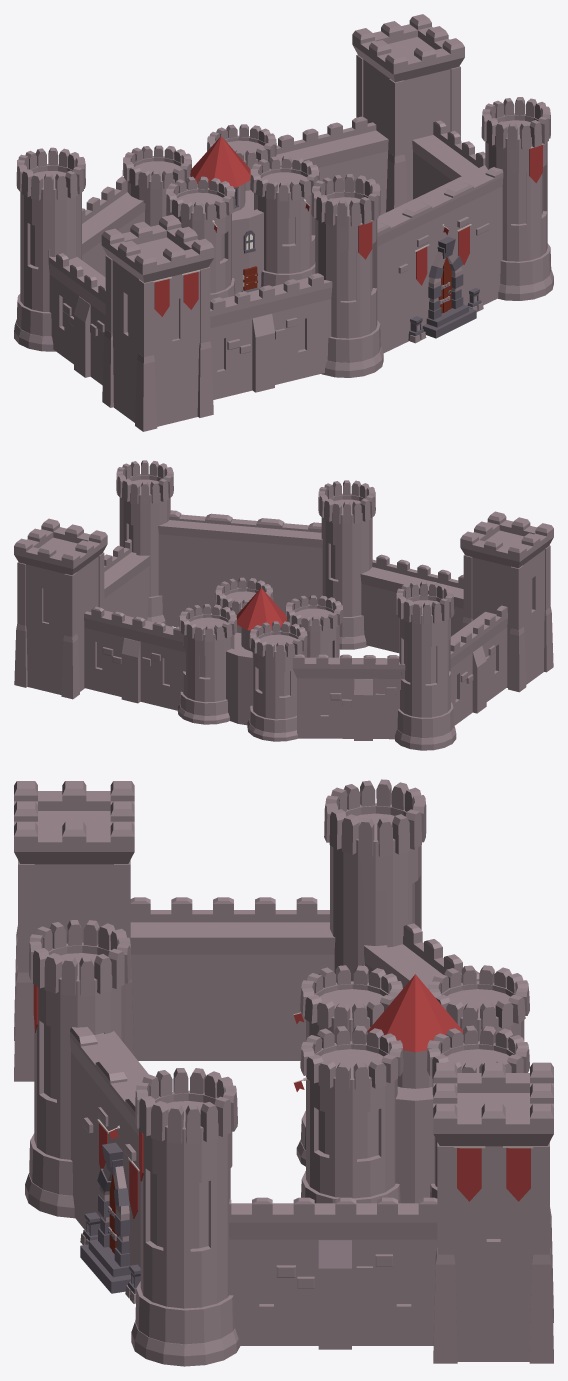
The model's file is House_of_Power.fbx.
3 views of the same model, one above another, from view 1: azimuth 30°, elevation 25°; view 2: azimuth 150°, elevation 25°; view 3: azimuth 270°, elevation 25° (orthographic). The views are drawn at different scales.
Parts seen in each view (by area): view 1: Замок; view 2: Замок; view 3: Замок.
Boxes of the visible parts, box(x1,y1,x2,y2) form: Замок: box(14, 14, 553, 431); Замок: box(14, 460, 553, 750); Замок: box(14, 779, 553, 1366).
Size of the model in its own units: 3637 by 1298 by 2487.
